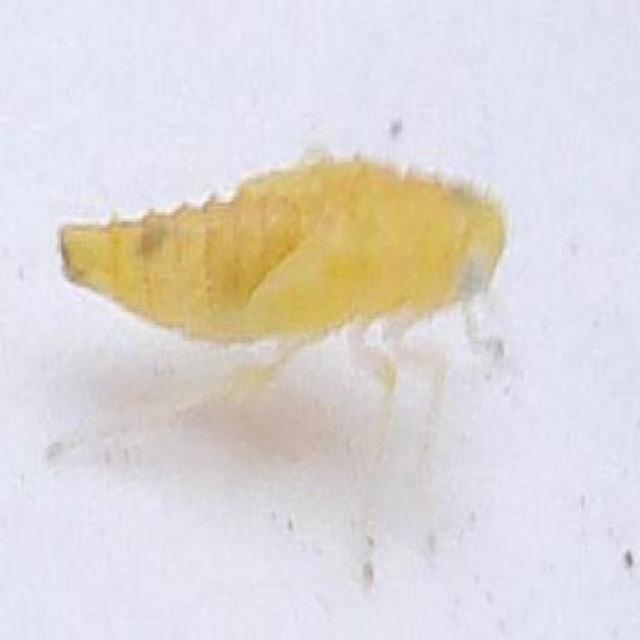green-leafhopper: (45, 150, 507, 531)
